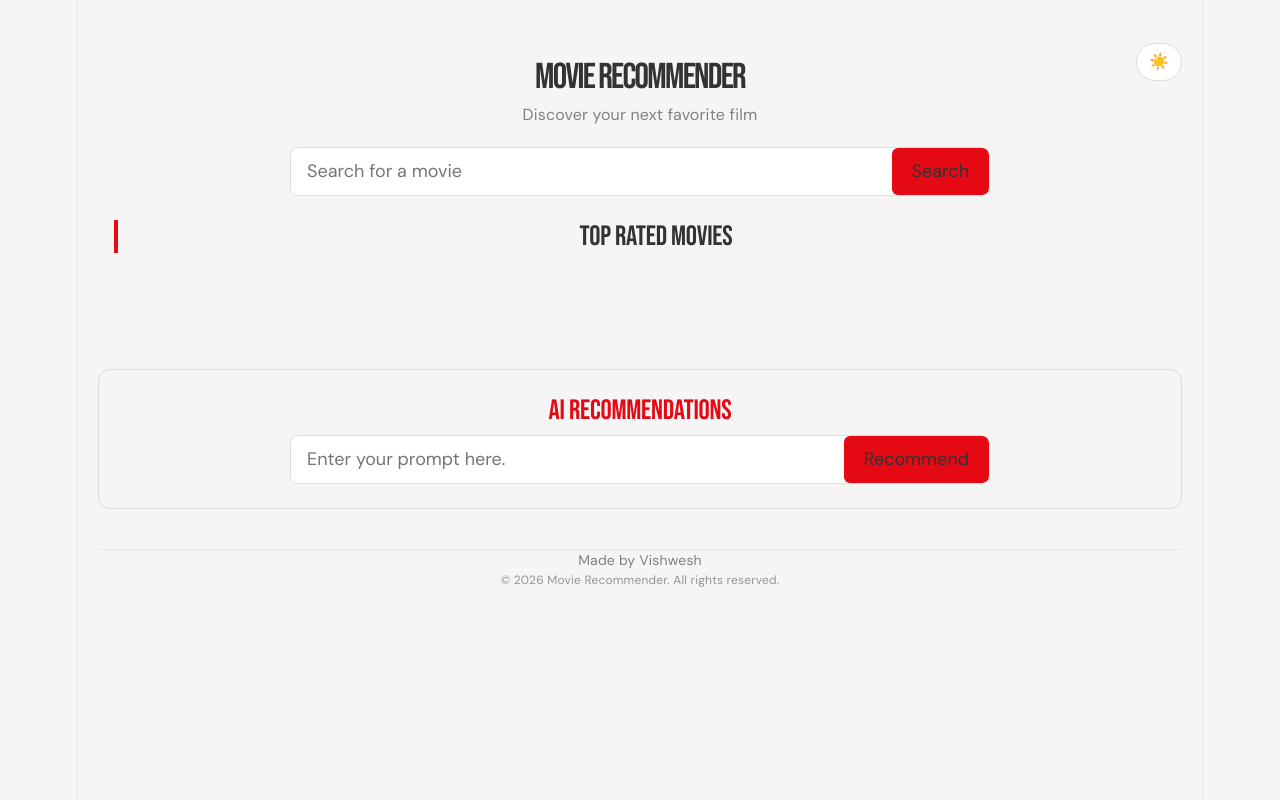
Test case: App Component › shows no results message when search returns empty
Type "Unknown Movie" into the field with placeholder "Search for a movie".
click(591, 172); type("Unknown Movie")  # box [291, 148, 892, 195]
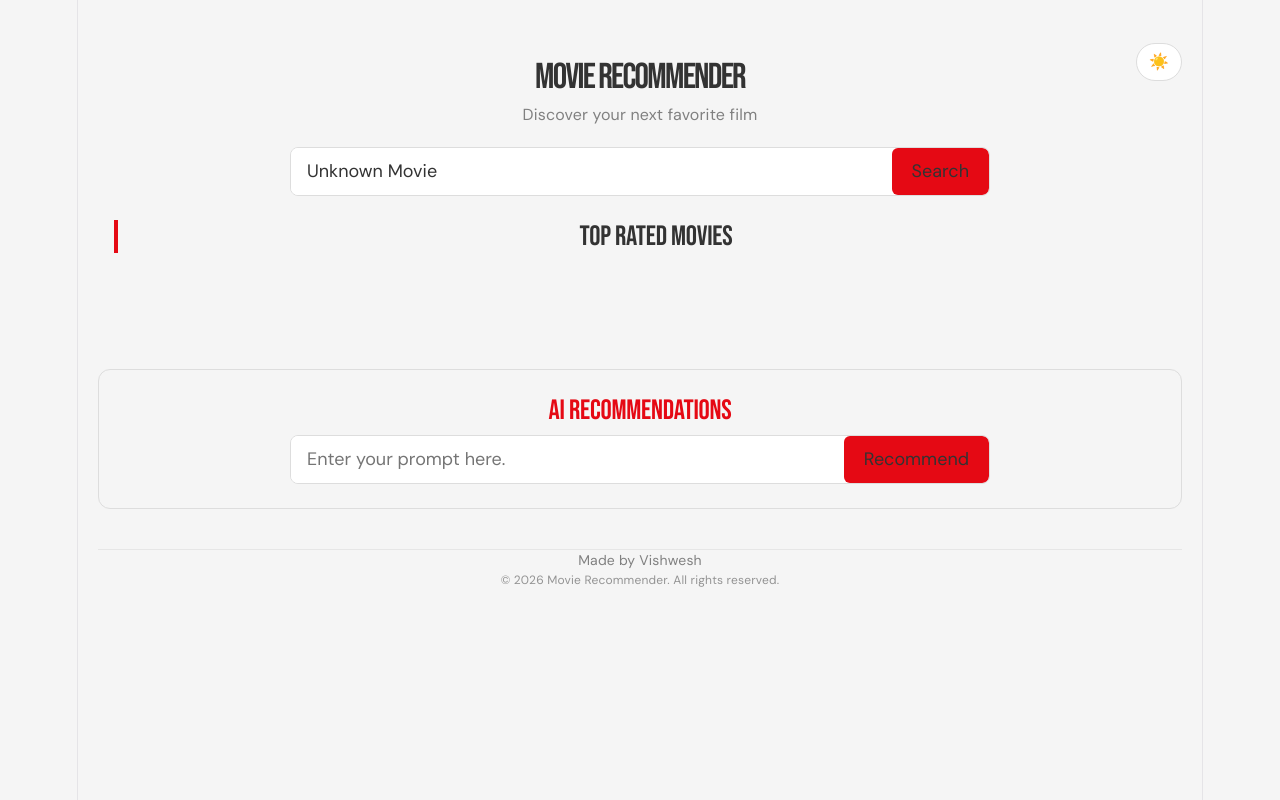
Click the button "Search".
click(940, 172)  # box [892, 148, 989, 195]
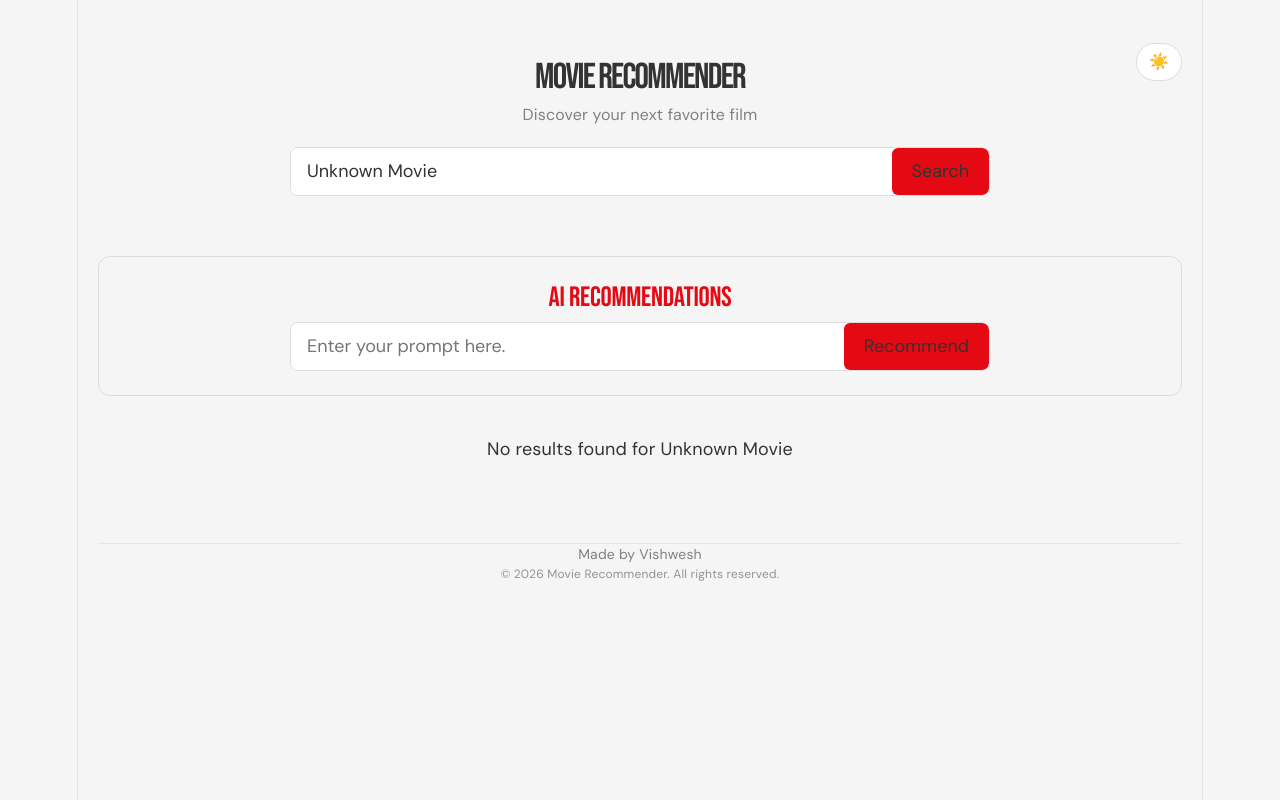
Result: the text "No results found for Unknown Movie" is shown at [487, 437, 793, 461]
